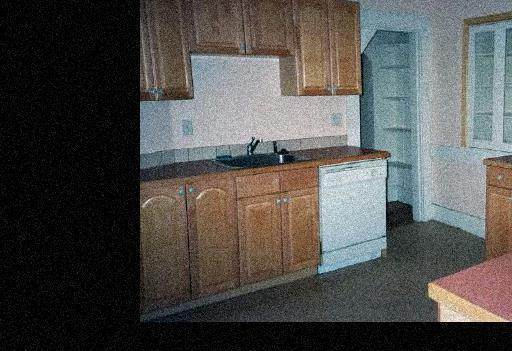Electrodomestico: (323, 167, 388, 261)
